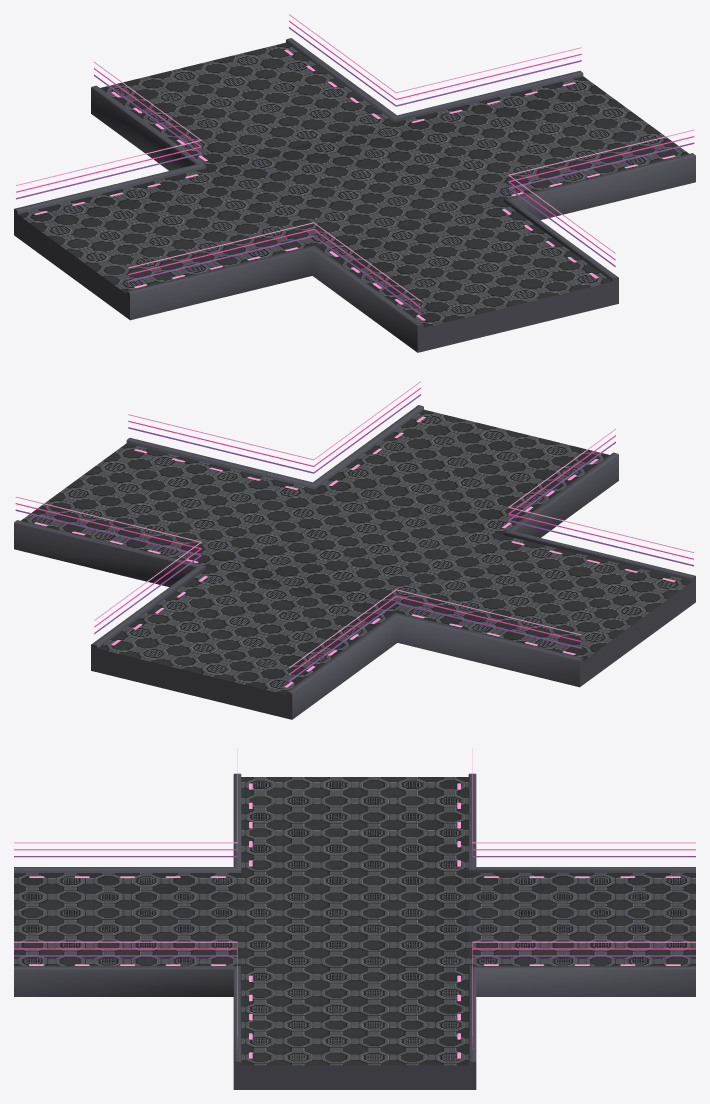
Rendered from tile-cross.glb.
3 renders of one model, top to bottom at view 1: azimuth 30°, elevation 25°; view 2: azimuth 150°, elevation 25°; view 3: azimuth 270°, elevation 25°, orthographic. The views are drawn at different scales.
Visible parts, largest first — view 1: Platform1_2; view 2: Platform1_2; view 3: Platform1_2.
Part boxes in pixels (box(x1,y1,x2,y2)): Platform1_2: box(14, 14, 695, 352); Platform1_2: box(14, 381, 695, 719); Platform1_2: box(14, 748, 695, 1089).
Size of what is drawn, in the model's own units: 18 by 1.56 by 18.
3 materials, 3 textured.
